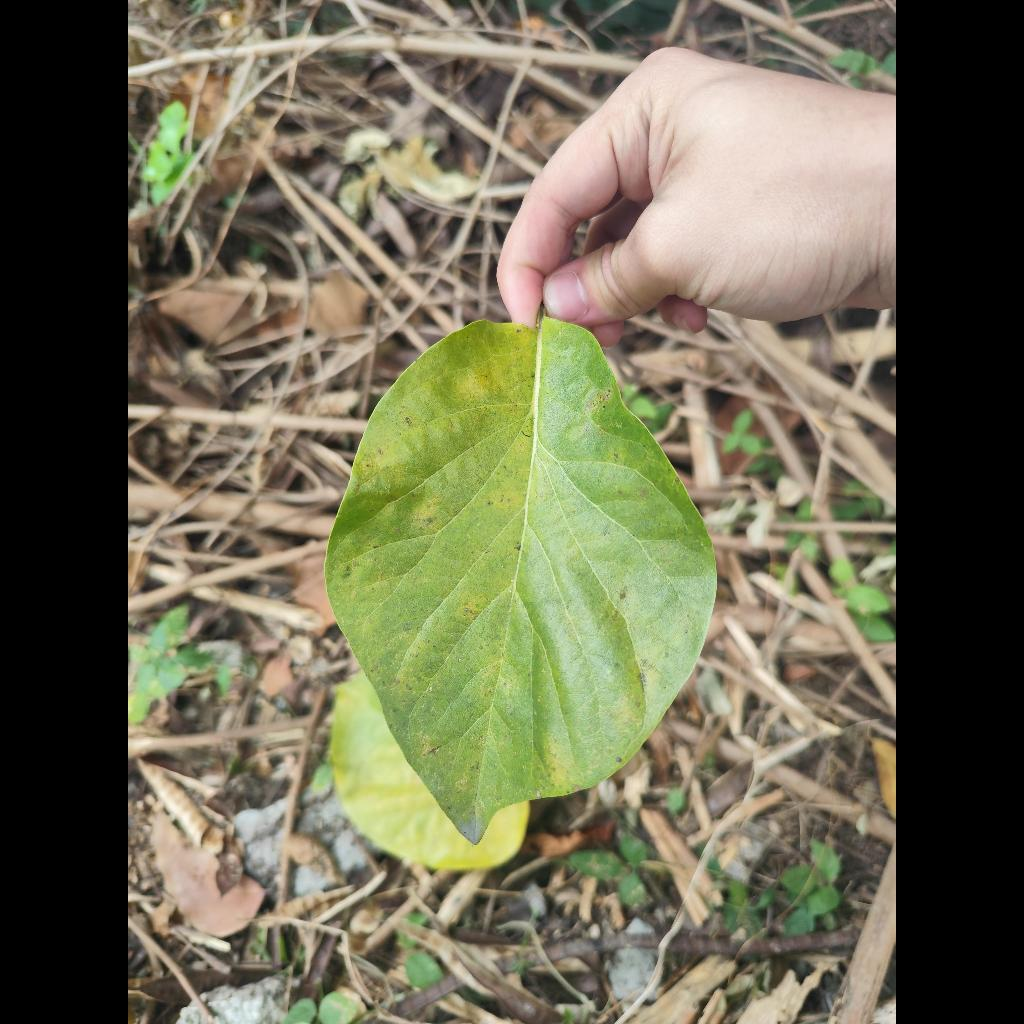deficiencia_nutricional: (326, 318, 716, 844)
